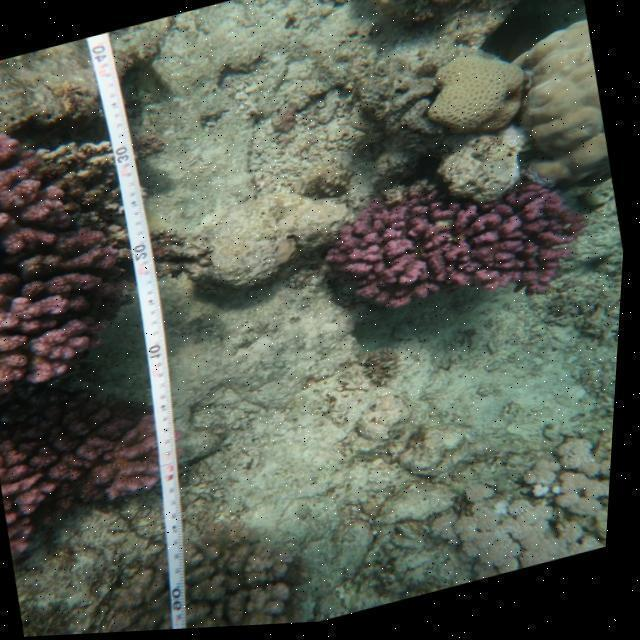Healthy Coral: (314, 156, 584, 350), (0, 132, 138, 366), (0, 397, 171, 537)
